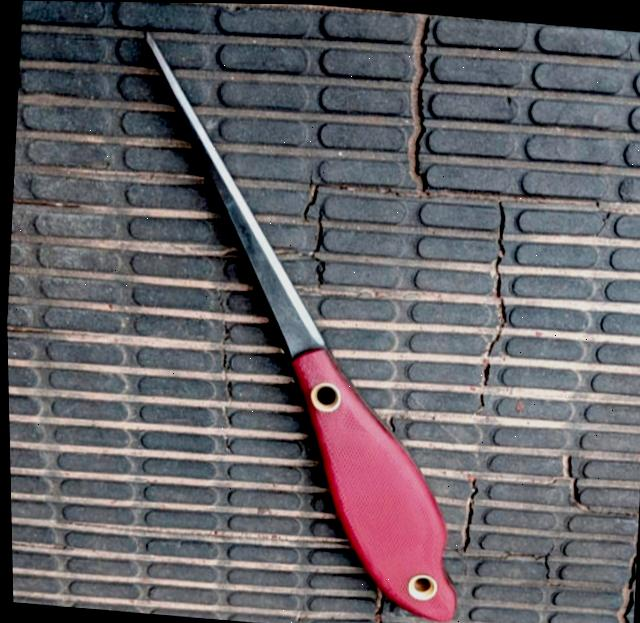ice pick: (103, 24, 489, 623)
